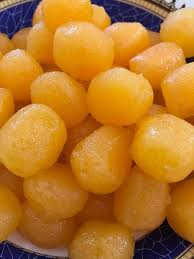tongyod: (2, 101, 64, 177), (129, 111, 193, 183), (83, 63, 151, 126), (1, 42, 54, 112), (20, 164, 91, 216), (52, 22, 115, 77), (116, 165, 165, 233), (151, 12, 194, 59), (158, 62, 194, 114)
